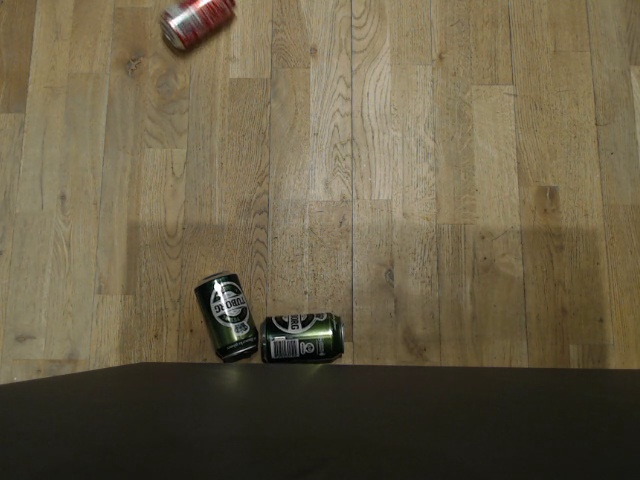beer: (195, 271, 257, 363), (260, 312, 344, 363)
cola: (158, 0, 235, 51)
